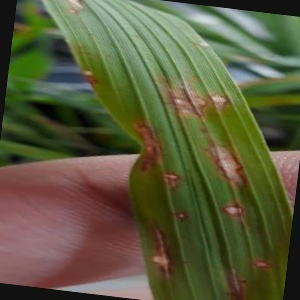Brown_Spot: (117, 117, 170, 177), (200, 138, 255, 188), (144, 222, 183, 278), (156, 75, 211, 114), (214, 195, 263, 226), (191, 28, 230, 64), (221, 265, 256, 300), (75, 62, 114, 92), (41, 0, 91, 19), (243, 248, 276, 274), (171, 203, 200, 230), (161, 166, 190, 190), (209, 85, 234, 112)
